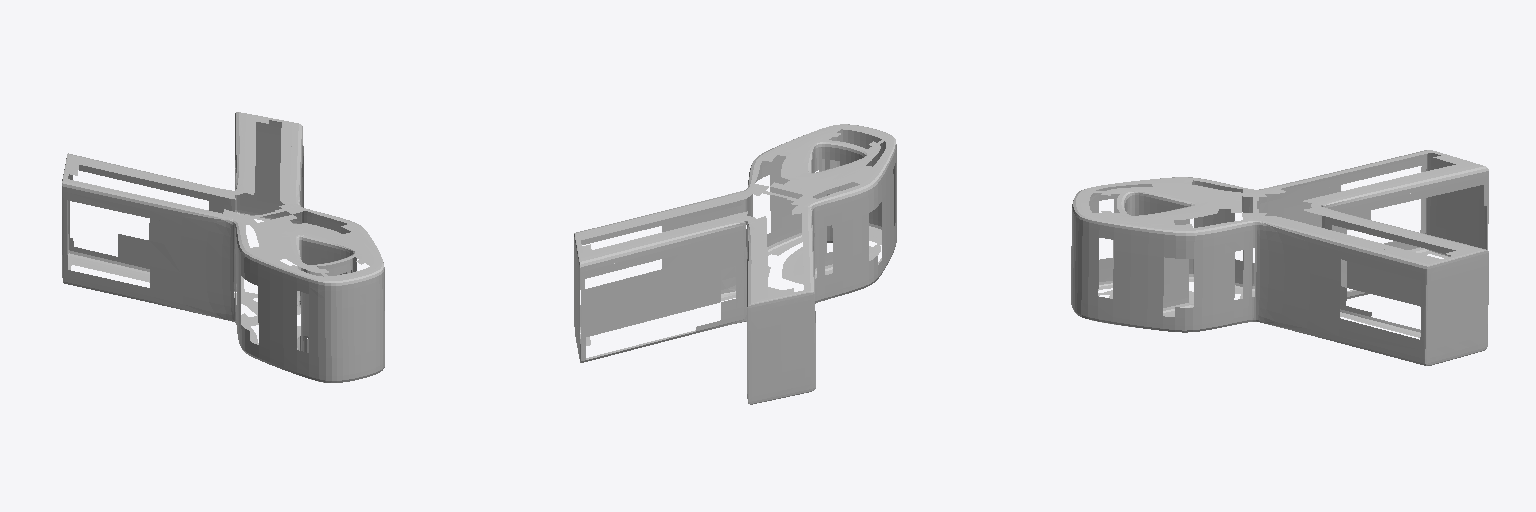
The model's file is sterling2.obj.
3 views of the same model, side by side, from view 1: azimuth 30°, elevation 25°; view 2: azimuth 150°, elevation 25°; view 3: azimuth 270°, elevation 25° (orthographic).
Visible parts, largest first — view 1: Mesh1 Model; view 2: Mesh1 Model; view 3: Mesh1 Model.
Boxes of the visible parts, x1=… form: Mesh1 Model: x1=62, y1=112, x2=384, y2=382; Mesh1 Model: x1=574, y1=124, x2=896, y2=404; Mesh1 Model: x1=1071, y1=150, x2=1488, y2=365.
Bounding box in the file's own units: 0.0167 × 0.007 × 0.0251.